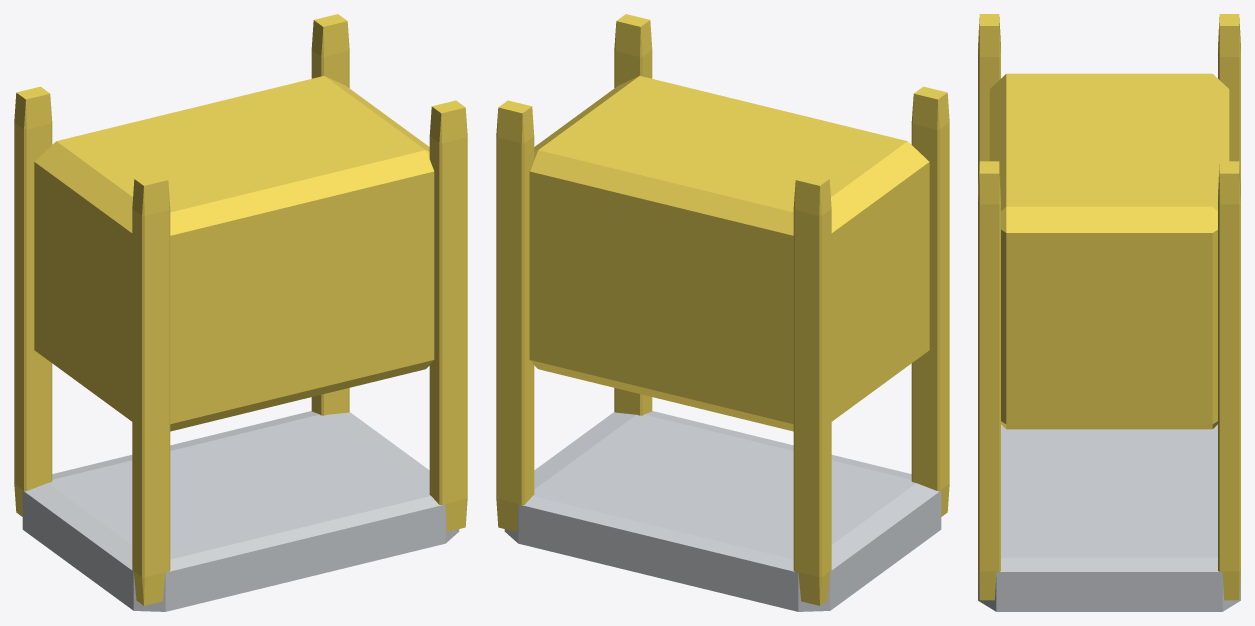
Rendered from b07_pipe_threading_machine_stand.glb.
3 views of the same model, side by side, from view 1: azimuth 30°, elevation 25°; view 2: azimuth 150°, elevation 25°; view 3: azimuth 270°, elevation 25° (orthographic).
Visible parts, largest first — view 1: b07_pipe_threading_machine_stand; view 2: b07_pipe_threading_machine_stand; view 3: b07_pipe_threading_machine_stand.
Boxes of the visible parts, x1,y1,x2,y2 form: b07_pipe_threading_machine_stand: (14, 14, 467, 611); b07_pipe_threading_machine_stand: (496, 14, 949, 611); b07_pipe_threading_machine_stand: (978, 14, 1240, 611).
Bounding box in the file's own units: 1.4 × 1.78 × 0.962.
